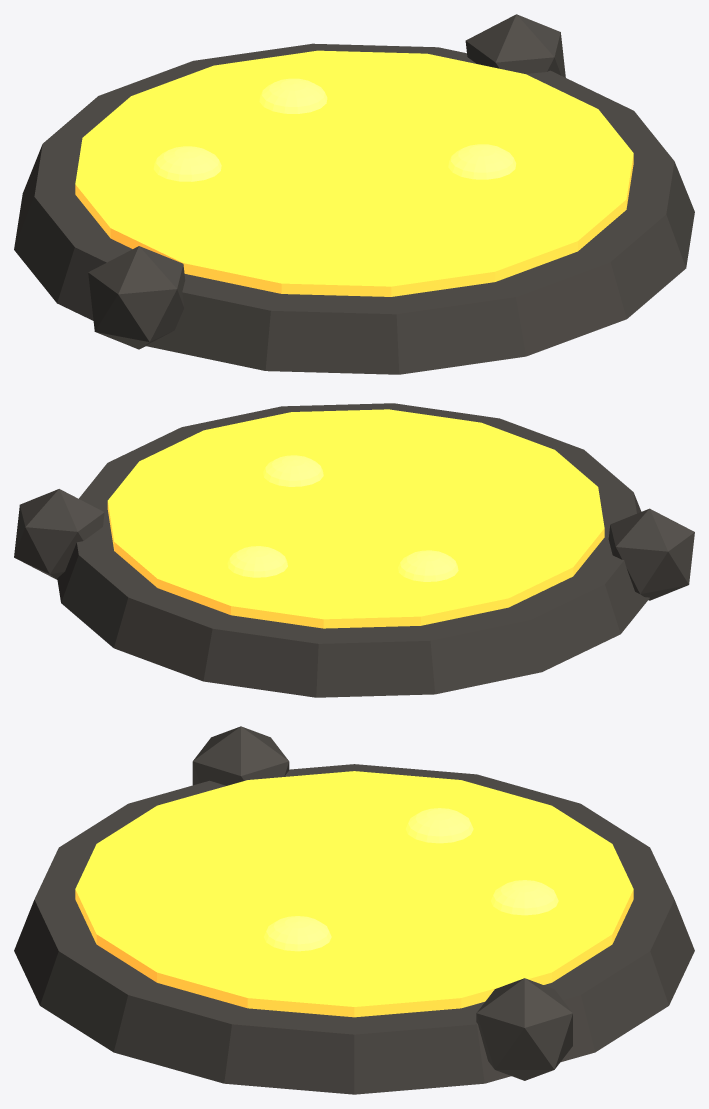
File: lava-pool-lod0.glb
The picture shows the model from 3 angles, top to bottom: view 1: azimuth 30°, elevation 25°; view 2: azimuth 150°, elevation 25°; view 3: azimuth 270°, elevation 25°; orthographic projection. The views are drawn at different scales.
Parts seen in each view (by area): view 1: lava-pool; view 2: lava-pool; view 3: lava-pool.
Boxes of the visible parts, x1,y1,x2,y2 form: lava-pool: (14, 14, 694, 374); lava-pool: (14, 403, 694, 697); lava-pool: (14, 726, 694, 1094).
Size of the model in its own units: 1.24 by 0.2 by 1.2.
